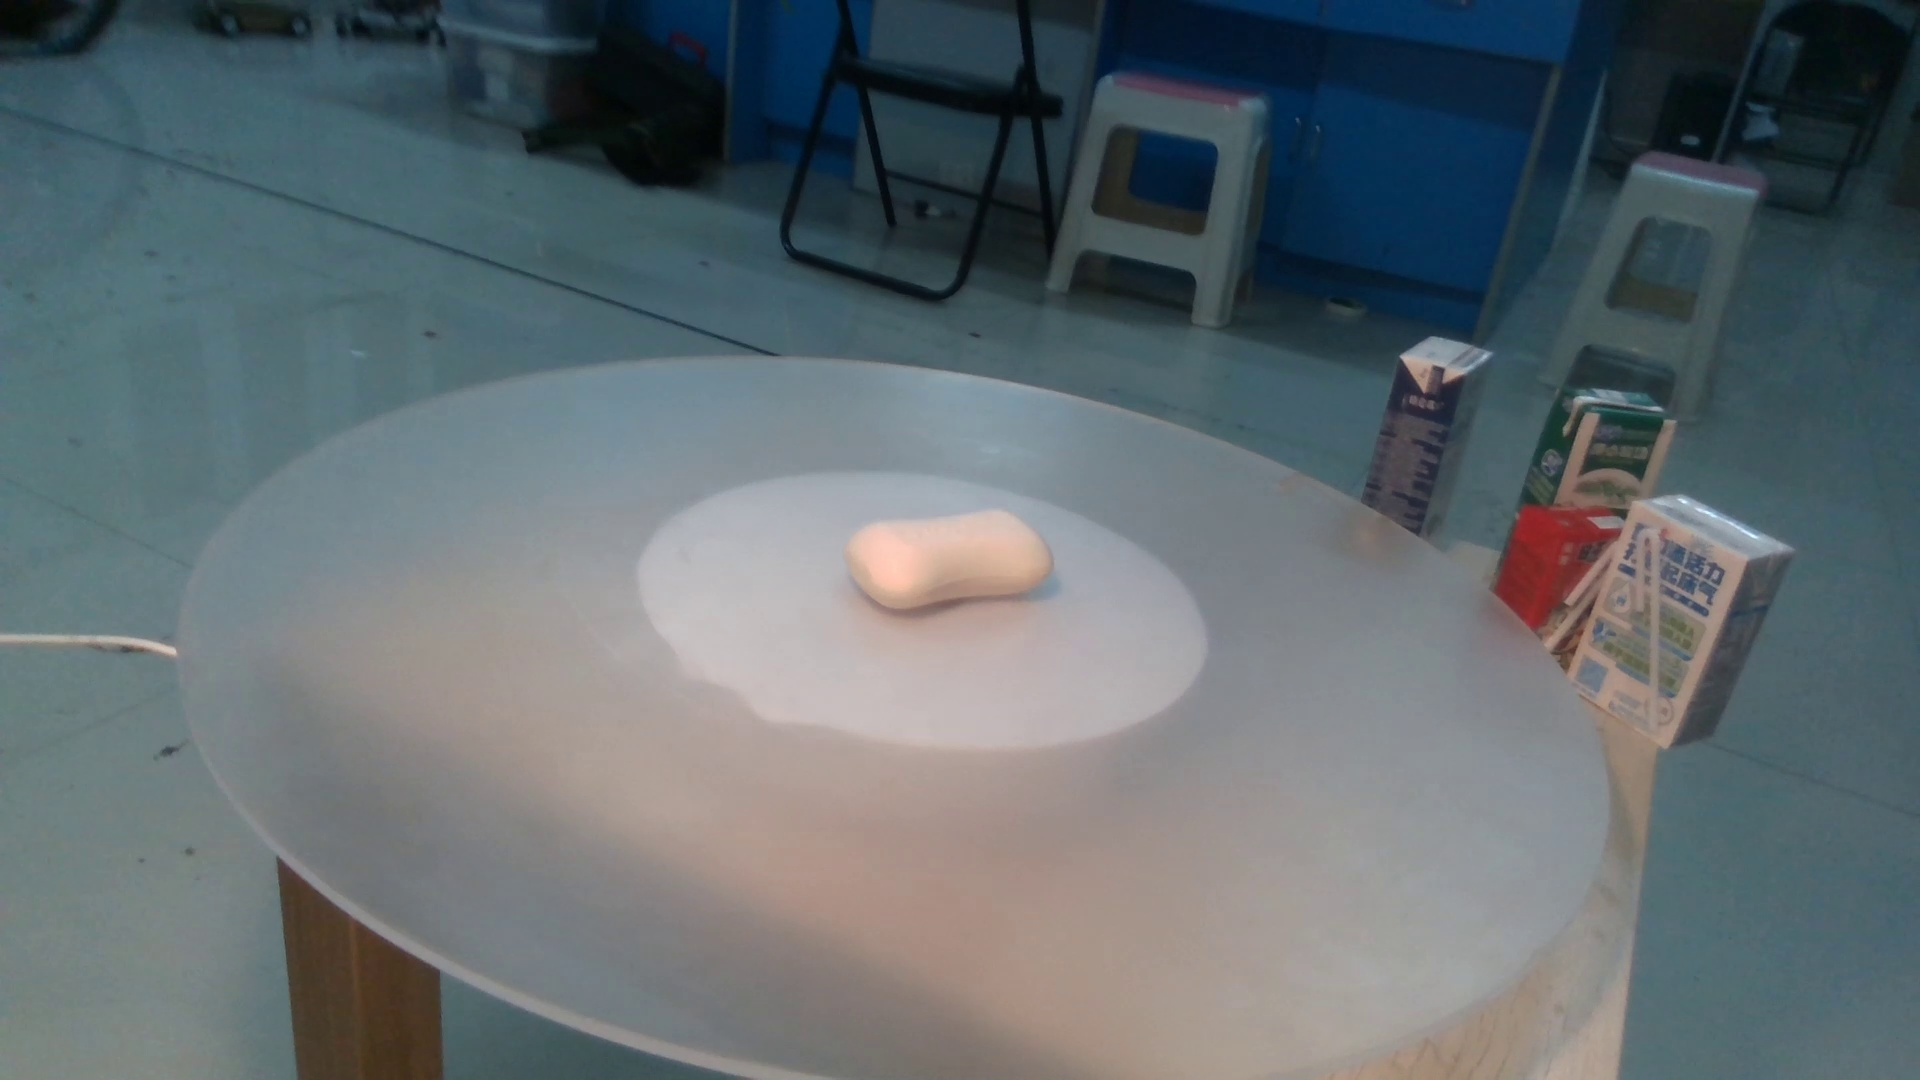CA003_1: (843, 498, 1110, 636)
